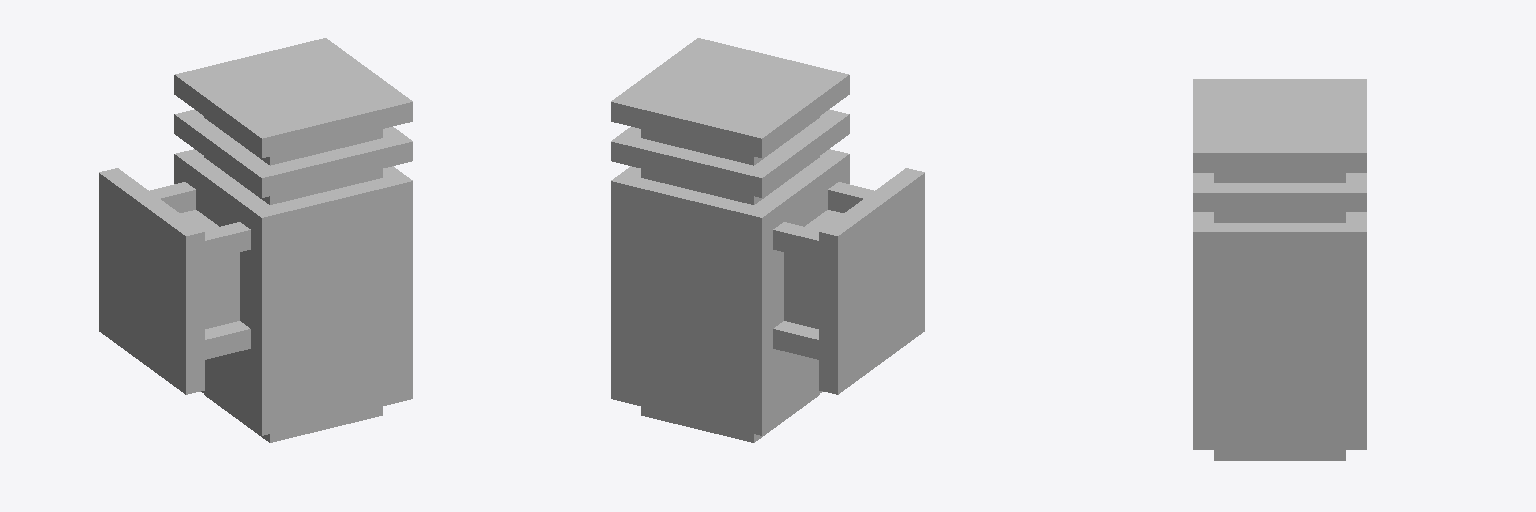
File: electricPump_2.obj
3 renders of one model, left to right at view 1: azimuth 30°, elevation 25°; view 2: azimuth 150°, elevation 25°; view 3: azimuth 270°, elevation 25°, orthographic.
Parts seen in each view (by area): view 1: pumpCasing, powerPort, pumpPortTop, pumpRingTop, pumpBase, powerConnector, powerConnectorFrame3, powerConnectorFrame2, powerConnectorFrame1; view 2: pumpCasing, powerPort, pumpPortTop, pumpRingTop, pumpBase, powerConnector, powerConnectorFrame4, powerConnectorFrame1, powerConnectorFrame2; view 3: pumpCasing, pumpPortTop, pumpRingTop, pumpBase.
Part boxes in pixels (bbox=[...]): pumpCasing: bbox=[174, 149, 412, 435]; powerPort: bbox=[99, 168, 204, 394]; pumpPortTop: bbox=[174, 38, 412, 157]; pumpRingTop: bbox=[174, 109, 412, 197]; pumpBase: bbox=[204, 117, 382, 442]; powerConnector: bbox=[180, 210, 239, 328]; powerConnectorFrame3: bbox=[205, 321, 250, 359]; powerConnectorFrame2: bbox=[204, 222, 250, 260]; powerConnectorFrame1: bbox=[150, 182, 195, 212]; pumpCasing: bbox=[611, 149, 849, 435]; powerPort: bbox=[819, 168, 924, 394]; pumpPortTop: bbox=[611, 38, 849, 157]; pumpRingTop: bbox=[611, 109, 849, 197]; pumpBase: bbox=[641, 117, 819, 442]; powerConnector: bbox=[784, 210, 843, 328]; powerConnectorFrame4: bbox=[773, 321, 818, 359]; powerConnectorFrame1: bbox=[773, 222, 819, 260]; powerConnectorFrame2: bbox=[828, 182, 873, 212]; pumpCasing: bbox=[1193, 212, 1366, 449]; pumpPortTop: bbox=[1193, 79, 1366, 172]; pumpRingTop: bbox=[1193, 173, 1366, 211]; pumpBase: bbox=[1214, 173, 1345, 460].
Bounding box in the file's own units: 0.75 × 1 × 0.5.